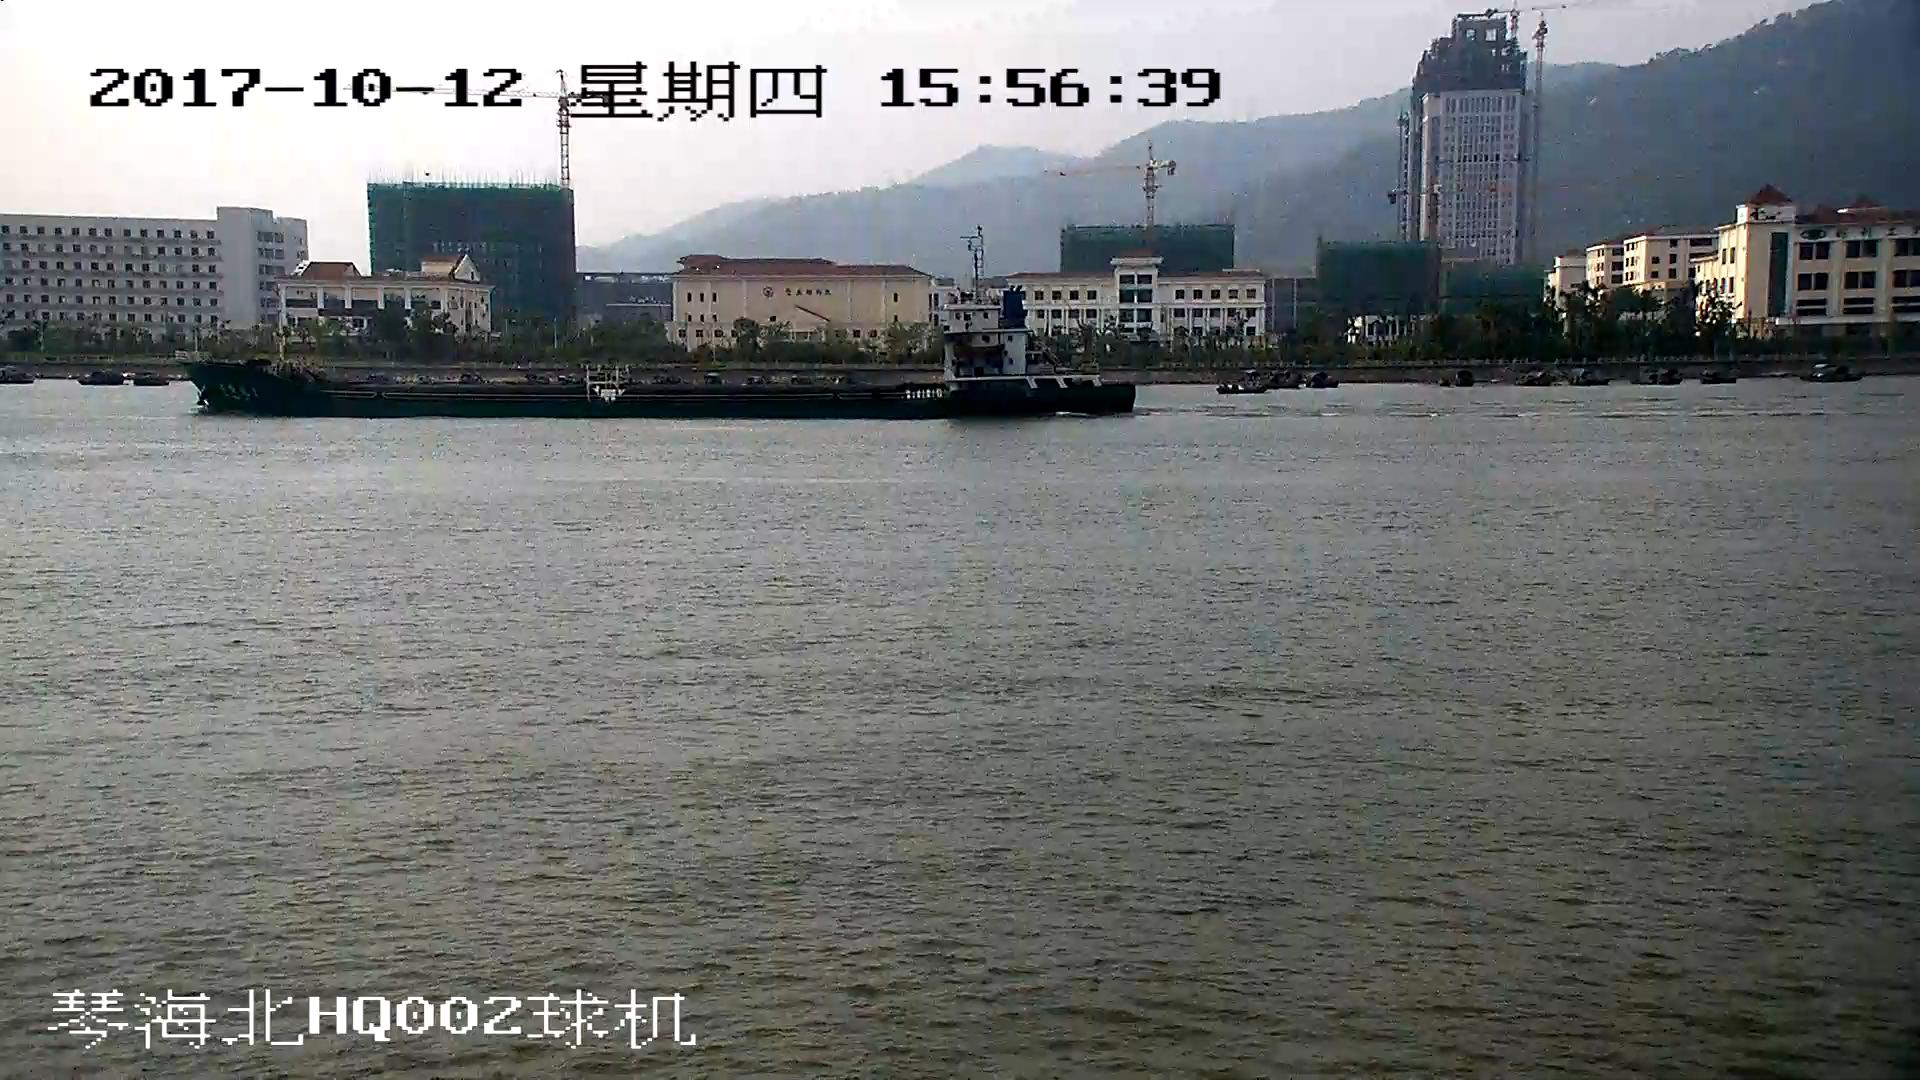general cargo ship: (180, 239, 1140, 414)
